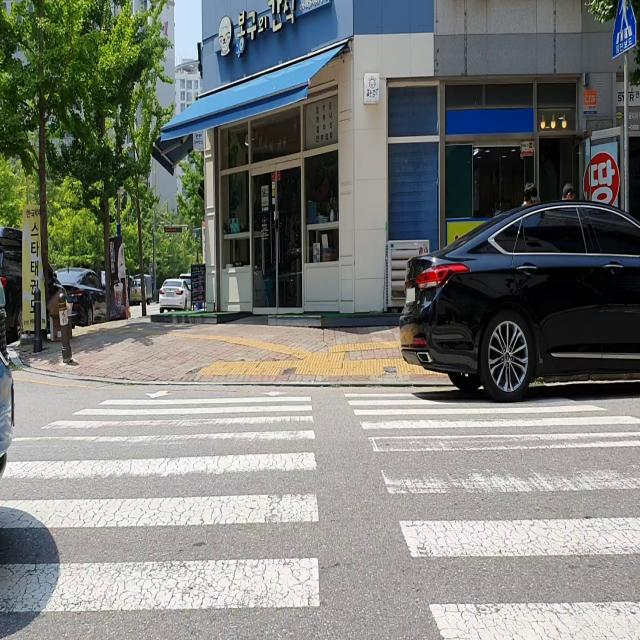횡단보도: (0, 383, 640, 639)
